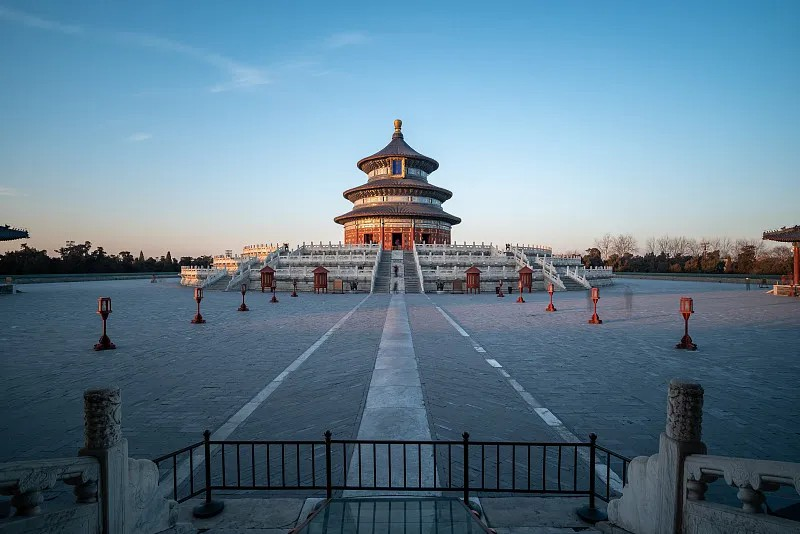Heaven: (333, 119, 463, 248)
